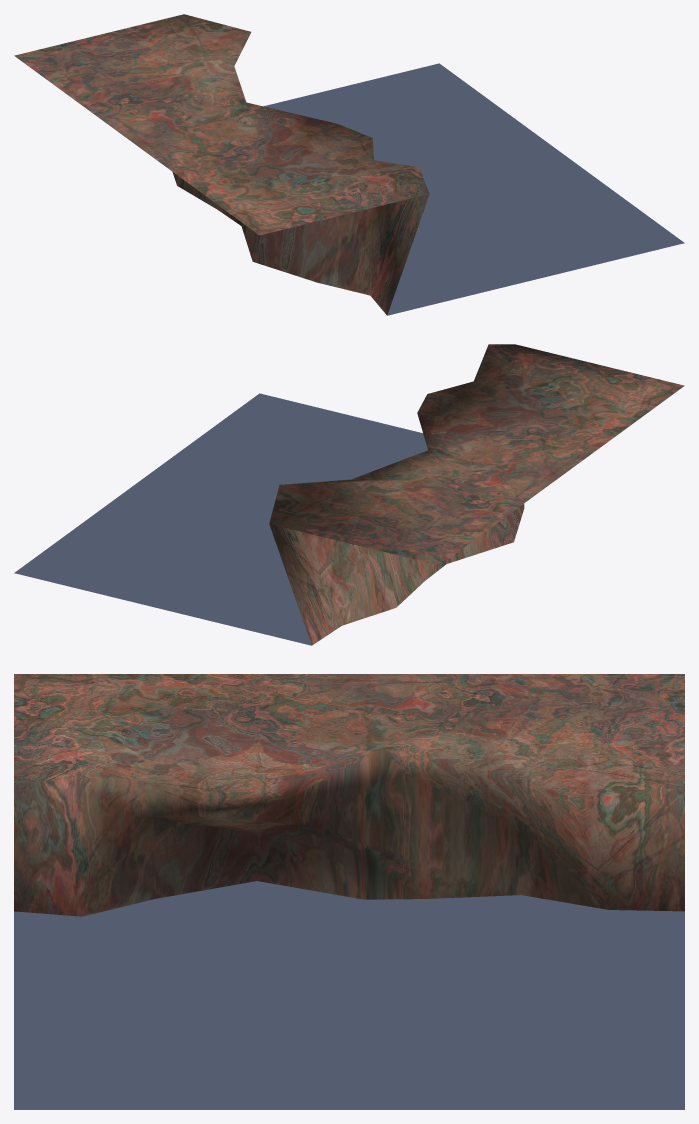
Rendered from cave_water_edge2.glb.
3 renders of one model, top to bottom at view 1: azimuth 30°, elevation 25°; view 2: azimuth 150°, elevation 25°; view 3: azimuth 270°, elevation 25°, orthographic. The views are drawn at different scales.
Parts seen in each view (by area): view 1: water_edge2-col; view 2: water_edge2-col; view 3: water_edge2-col.
Part boxes in pixels (box(x1,y1,x2,y2)): water_edge2-col: box(14, 14, 684, 315); water_edge2-col: box(14, 344, 684, 645); water_edge2-col: box(14, 674, 684, 1109).
Size of the model in its own units: 2 by 0.5521 by 2.
Materials: 2 (1 with a texture image).
